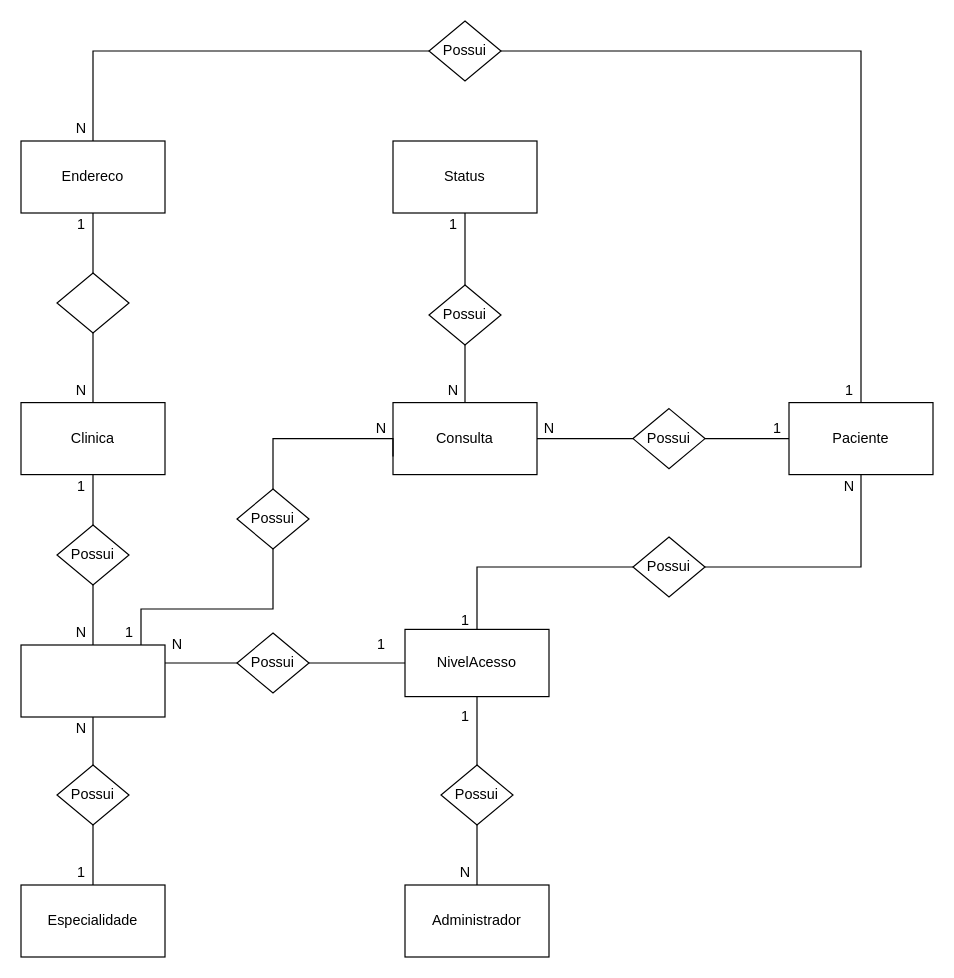
Some shapes in this 954 by 978 pixel diagram are drawn without their labels. The shapes that lost their labels are listed below. From the top down, each one's box as (x1, y1, x2, y2) in pixels, then its label:
(56, 272, 129, 333): Tem
(20, 644, 165, 717): Medico
